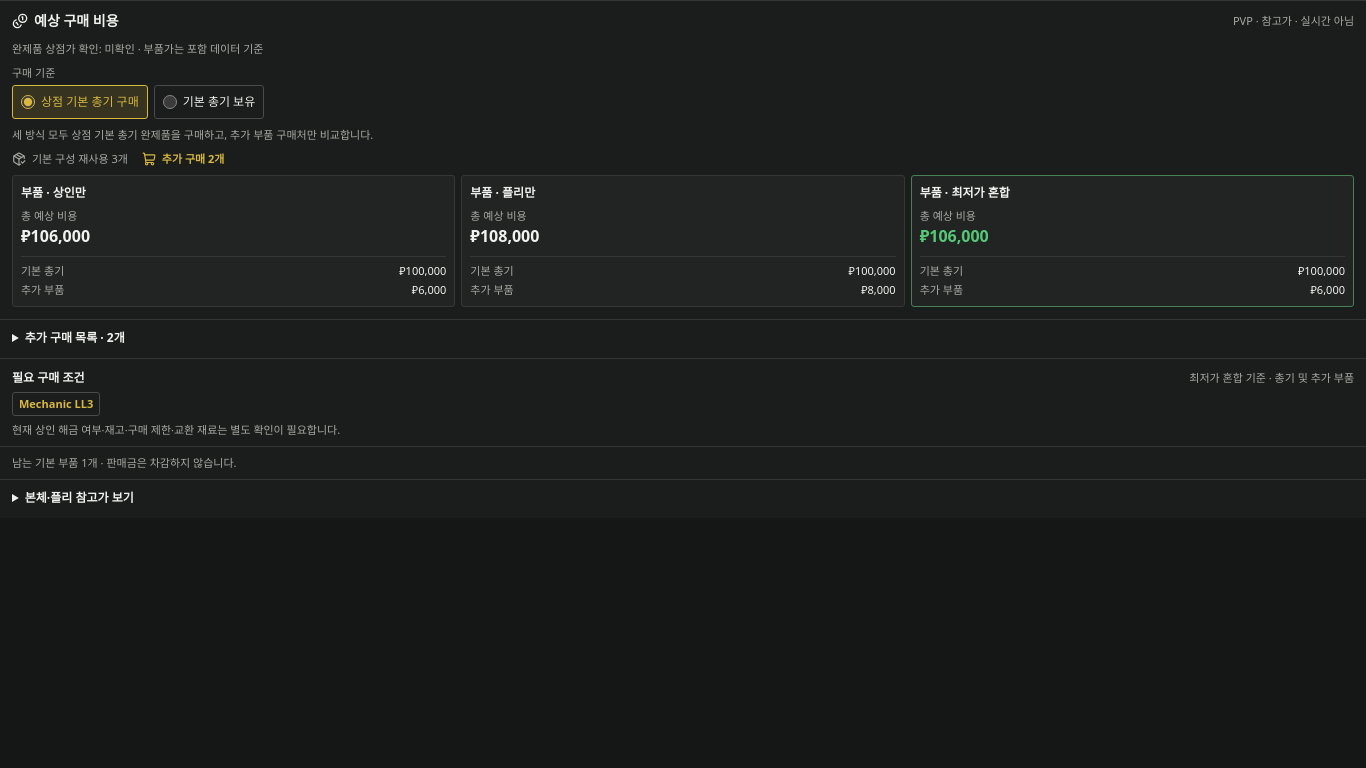
Test: BuildPriceSummary purchase view › shows grouped purchase quantities, unit price and subtotal with selectable source strategy
This screenshot has width=1366, height=768.
Click the heading "추가 구매 목록 · 2개". click: click(75, 337)
box: 25,329 -> 125,346
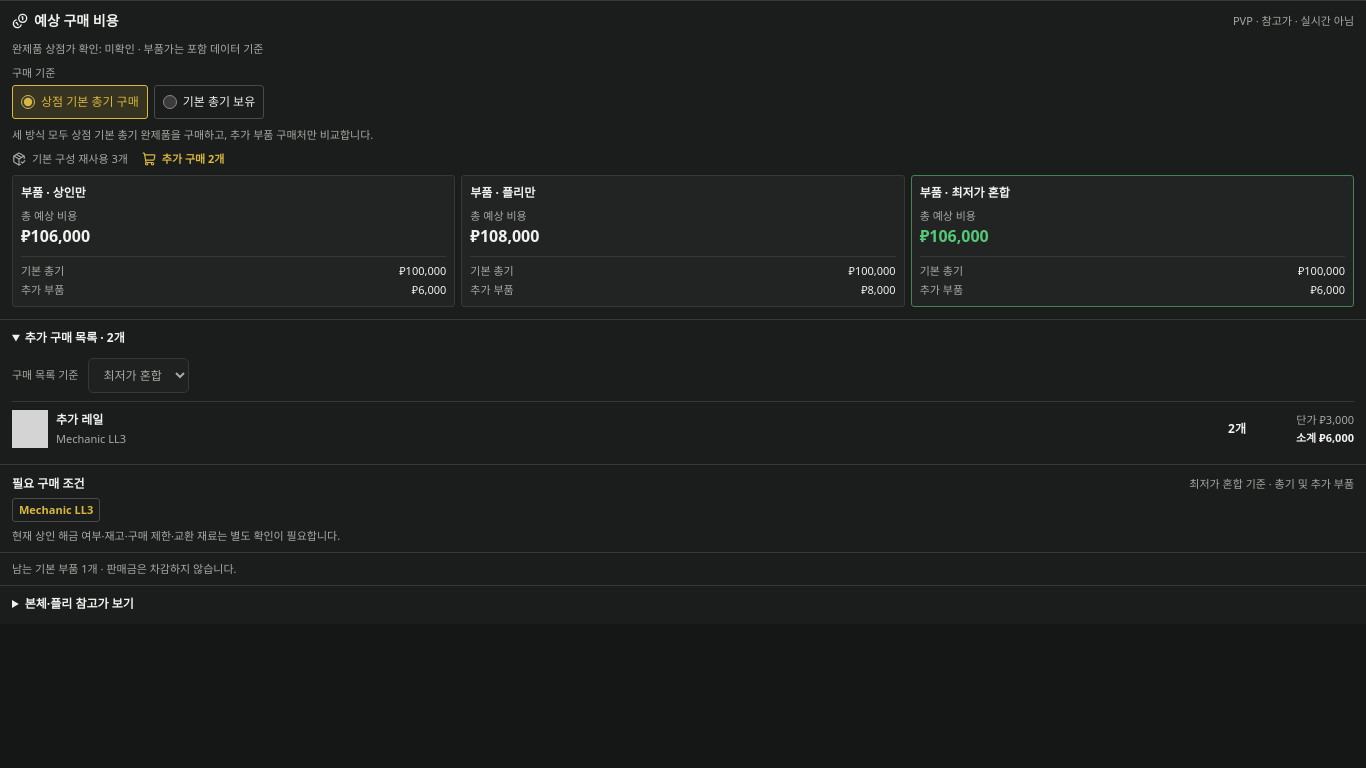
Expected: the text "추가 레일" is shown, 56,411 -> 103,428
Expected: the text "2개" is shown, 1228,420 -> 1246,438
Expected: the text "단가 ₽3,000" is shown, 1296,412 -> 1354,427
Select "플리만" in the dropdown labelled "구매 목록 기준". click: (139, 375)
box: 88,358 -> 190,393
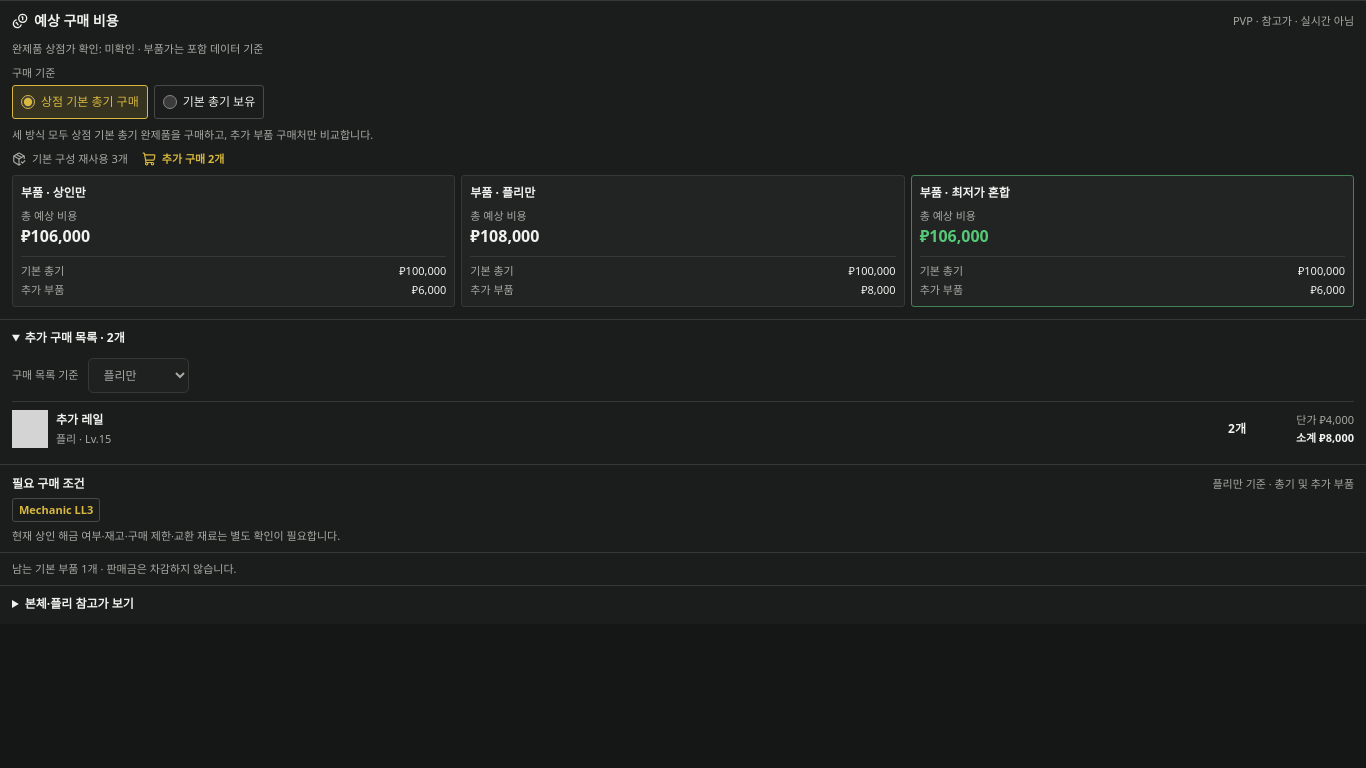
Expected: the text "단가 ₽4,000" is shown, 1296,412 -> 1354,427
Expected: the text "소계 ₽8,000" is shown, 1296,430 -> 1354,445
Expected: the text "플리 · Lv.15" is shown, 56,431 -> 111,446
